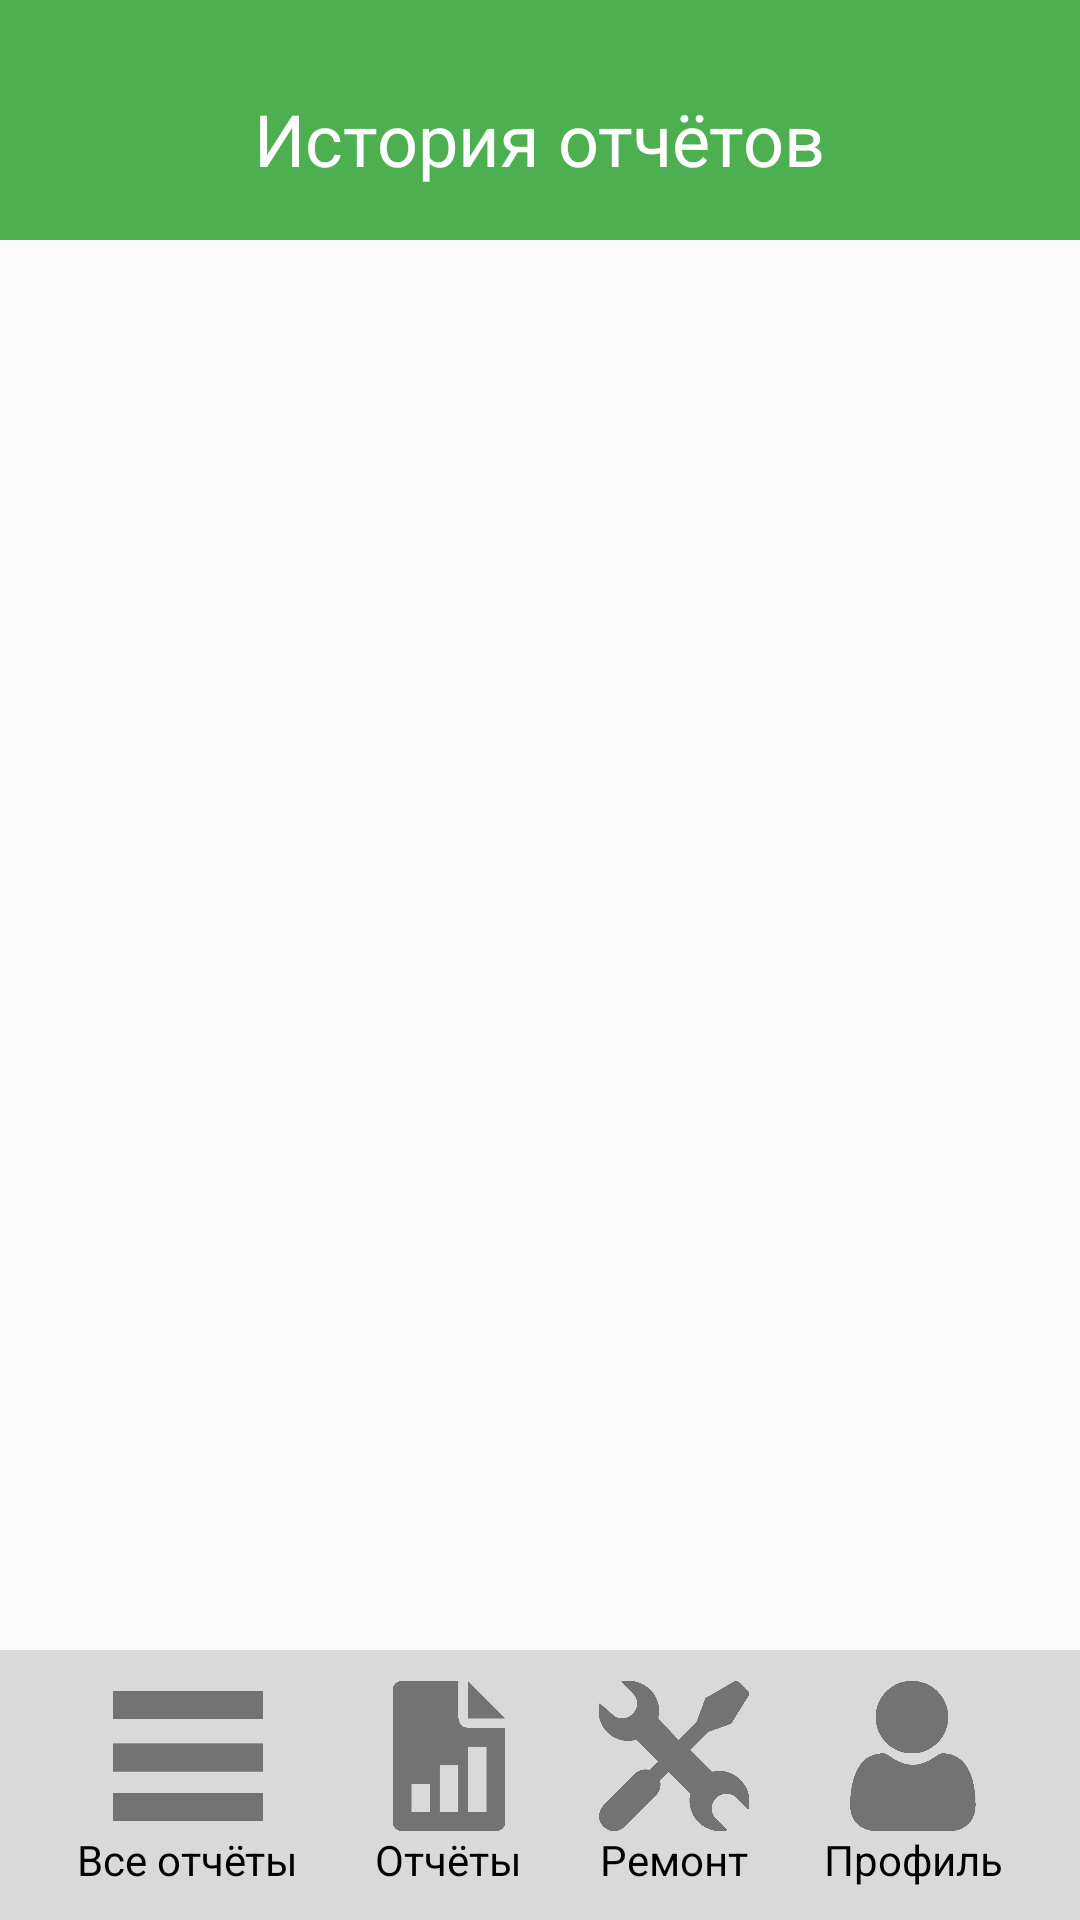

Where icons sit on this 1080x1920 app screen, as (x1, y1, x2, y2):
menu: (113, 1691, 263, 1821)
